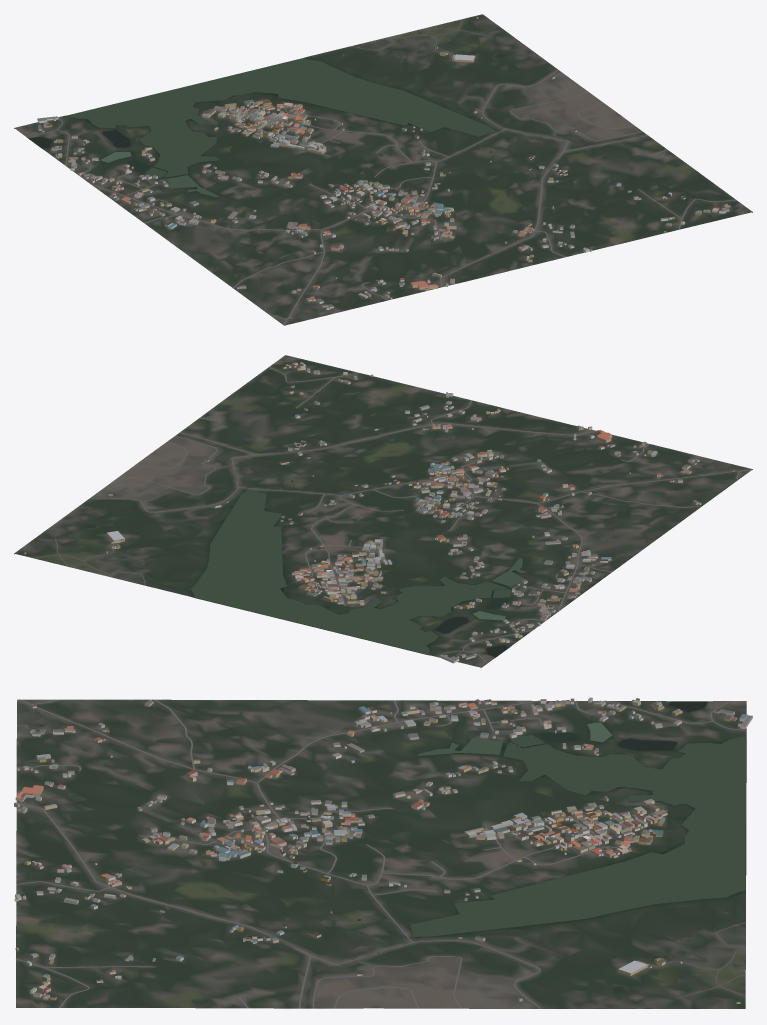
The picture shows the model from 3 angles, top to bottom: view 1: azimuth 30°, elevation 25°; view 2: azimuth 150°, elevation 25°; view 3: azimuth 270°, elevation 25°; orthographic projection. The views are drawn at different scales.
Parts seen in each view (by area): view 1: ground, water, buildings, roads; view 2: ground, water, buildings, roads; view 3: ground, water, buildings, roads.
Part boxes in pixels (x1,y1,x2,y2): ground: [14, 14, 752, 325]; water: [29, 53, 502, 197]; buildings: [37, 16, 730, 318]; roads: [23, 19, 736, 324]; ground: [14, 355, 752, 667]; water: [86, 480, 526, 657]; buildings: [23, 362, 734, 663]; roads: [35, 367, 751, 662]; ground: [16, 699, 746, 1008]; water: [357, 701, 745, 991]; buildings: [14, 697, 752, 1003]; roads: [16, 699, 746, 1008].
Size of the model in its own units: 1403 by 14.47 by 1419.
